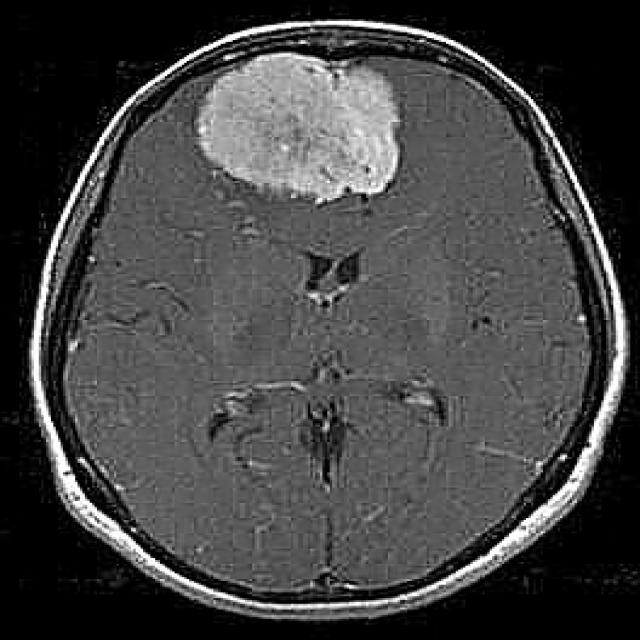Tumor-Cell: (190, 56, 412, 207)
